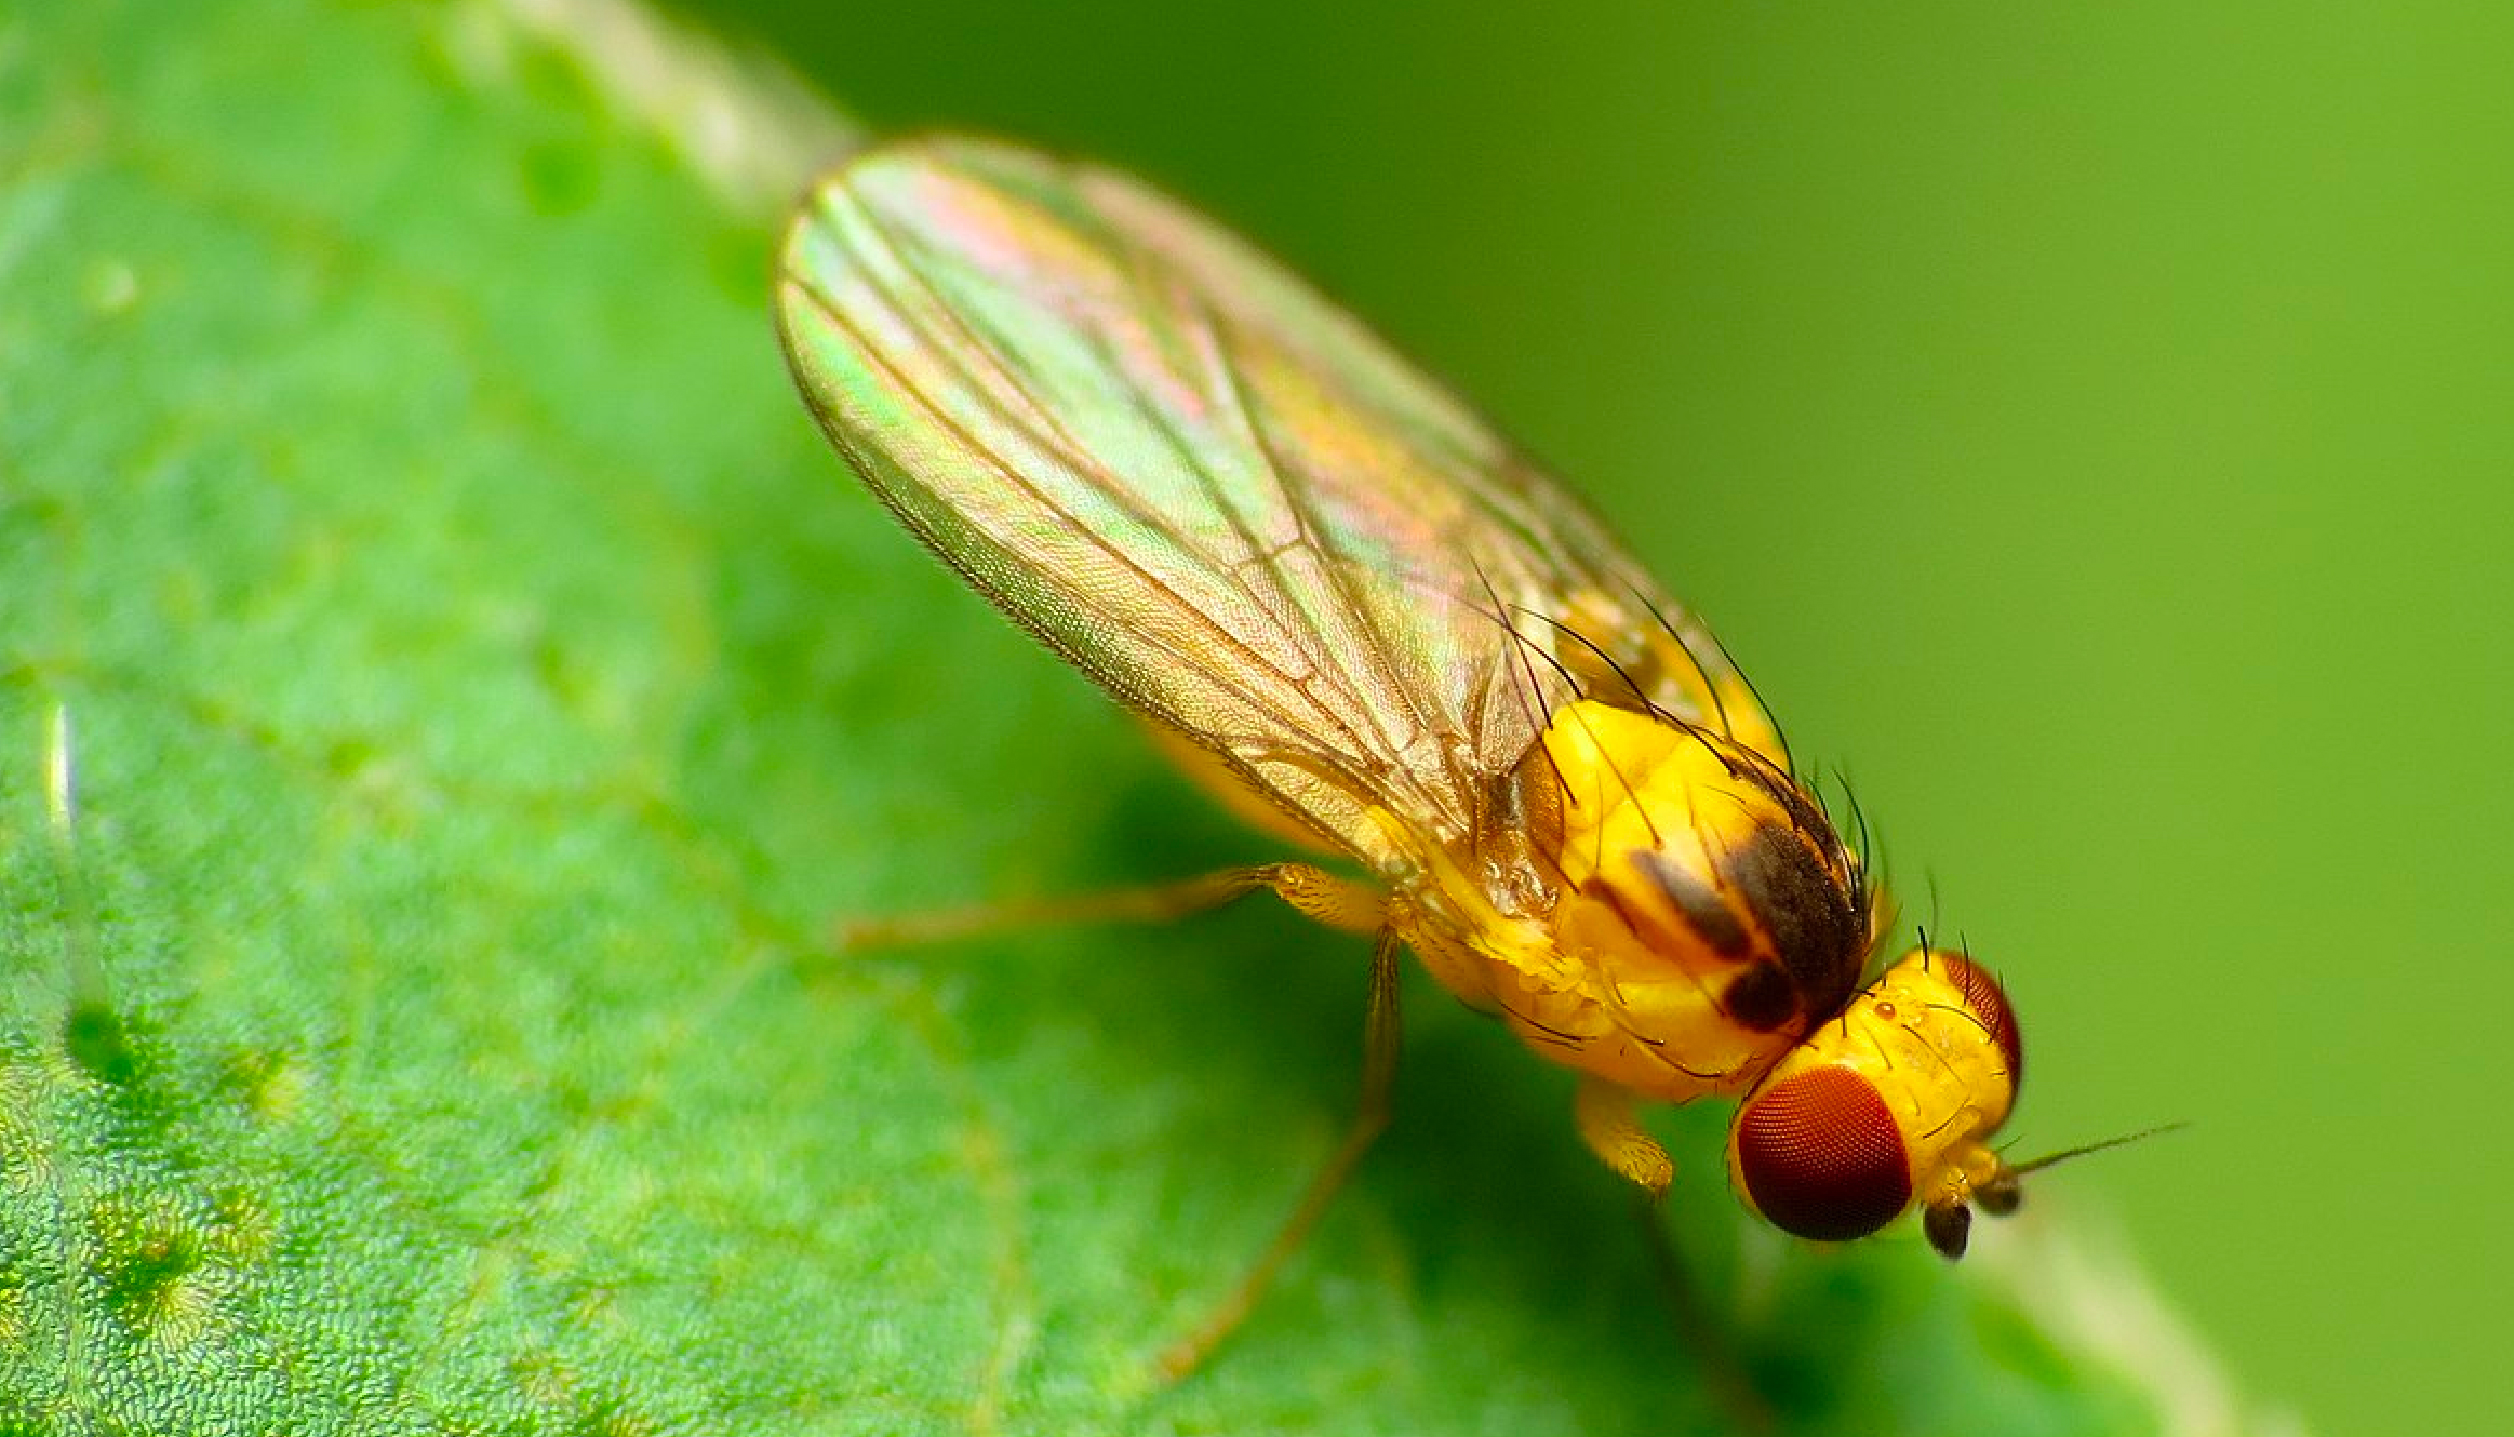Trifoli: (746, 85, 2162, 1371)
